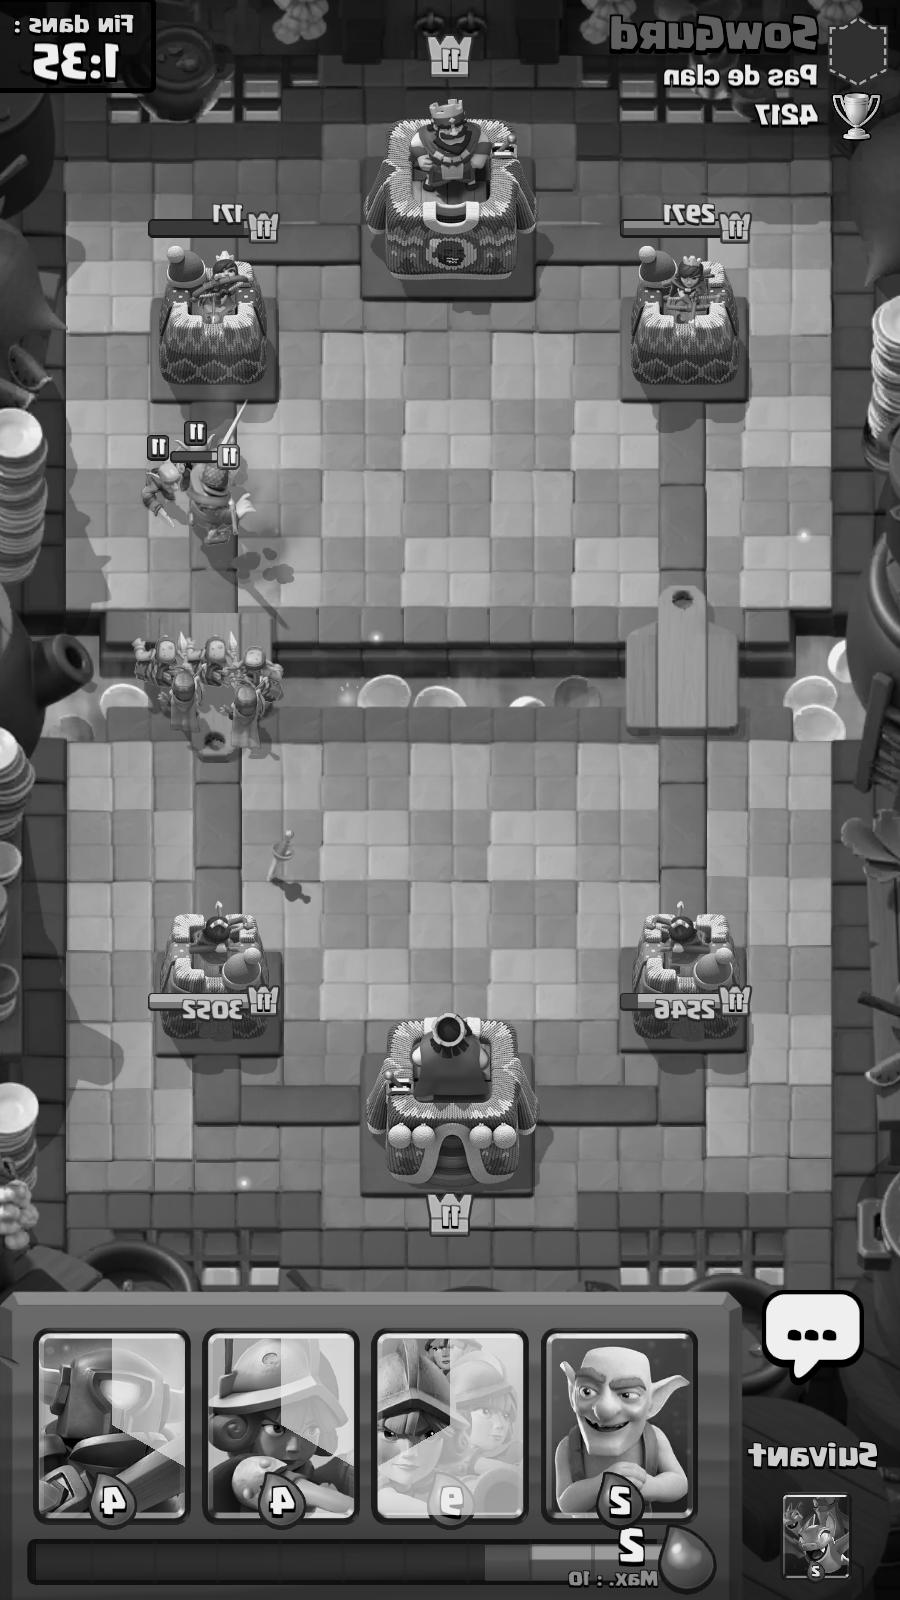archere: (160, 659, 209, 734), (221, 679, 265, 748)
chevalier: (188, 404, 251, 556)
gobelin: (141, 436, 186, 530), (175, 423, 214, 470)
gobelin_lances: (125, 632, 187, 693), (232, 638, 279, 700), (187, 633, 236, 688)
